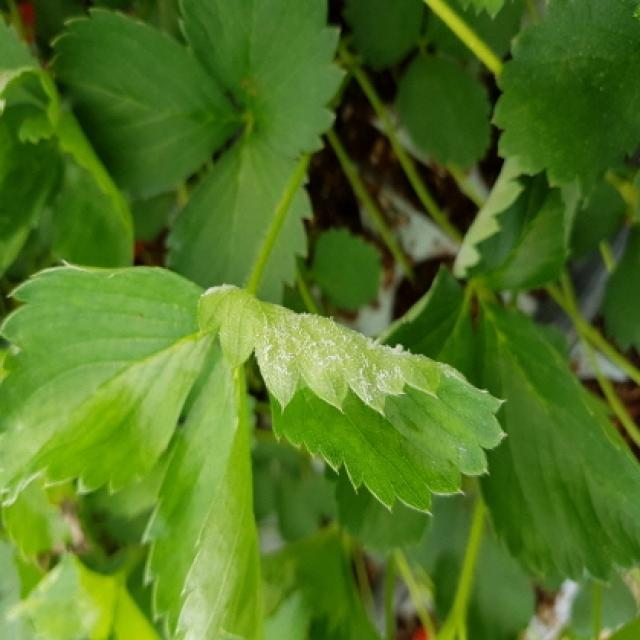powdery_mildew_leaf: (193, 281, 509, 515)
